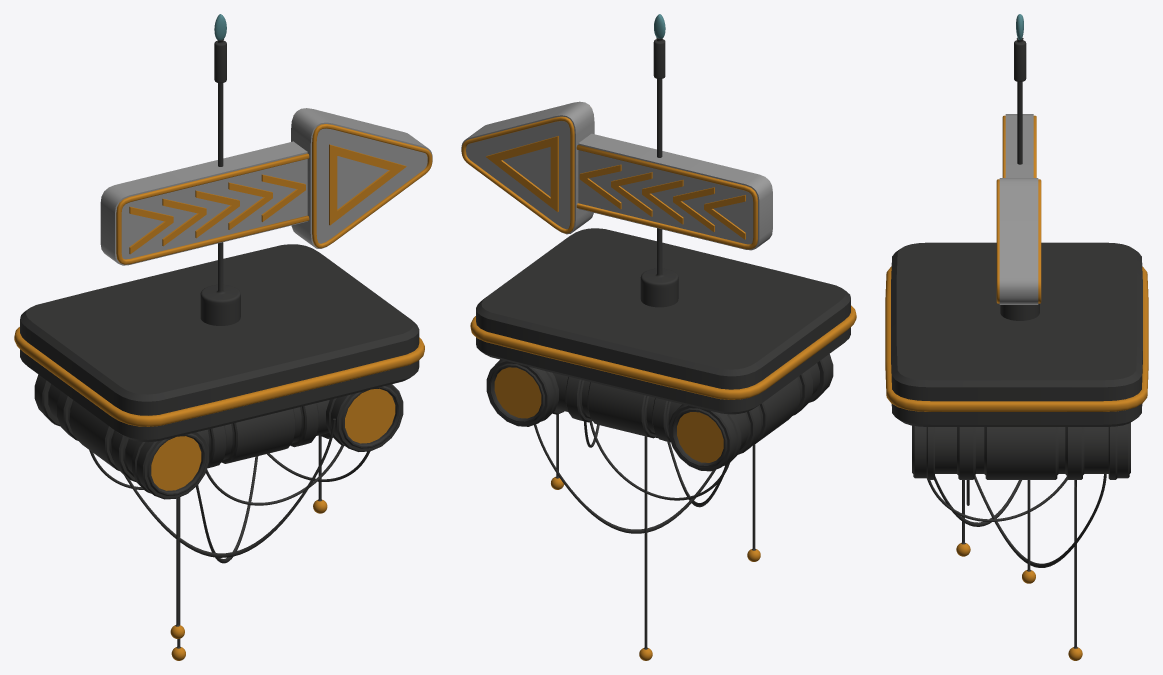
Rendered from Sign.fbx.
3 views of the same model, side by side, from view 1: azimuth 30°, elevation 25°; view 2: azimuth 150°, elevation 25°; view 3: azimuth 270°, elevation 25° (orthographic). The views are drawn at different scales.
Parts seen in each view (by area): view 1: Box319, Sign, Box320, Box321, Cylinder254, Cylinder251, Cylinder252, Cylinder253, TextPlus085, Cylinder255, Cylinder261, TextPlus084 (+5 smaller); view 2: Box319, Sign, Box320, Box321, Cylinder254, Cylinder251, Cylinder259, Cylinder260, Cylinder255, TextPlus079, Cylinder258, Cylinder263 (+6 smaller); view 3: Box319, Cylinder255, Sign, Box321, Box320, Cylinder251, Cylinder258, Cylinder262, Cylinder261, Cylinder263.
Part boxes in pixels (<box>): Box319: <box>20,244,419,442</box>; Sign: <box>14,124,432,490</box>; Box320: <box>100,141,307,265</box>; Box321: <box>291,108,432,248</box>; Cylinder254: <box>34,374,209,499</box>; Cylinder251: <box>200,39,240,325</box>; Cylinder252: <box>254,400,332,456</box>; Cylinder253: <box>199,416,268,468</box>; TextPlus085: <box>329,144,406,225</box>; Cylinder255: <box>326,384,403,451</box>; Cylinder261: <box>124,418,335,557</box>; TextPlus084: <box>129,206,173,254</box>; Box319: <box>476,228,850,414</box>; Sign: <box>461,116,856,462</box>; Box320: <box>578,133,772,250</box>; Box321: <box>461,101,594,234</box>; Cylinder254: <box>669,354,833,471</box>; Cylinder251: <box>640,37,678,307</box>; Cylinder259: <box>552,372,625,431</box>; Cylinder260: <box>613,388,681,442</box>; Cylinder255: <box>486,359,558,426</box>; TextPlus079: <box>486,136,558,211</box>; Cylinder258: <box>534,424,715,533</box>; Cylinder263: <box>644,436,647,647</box>; Box319: <box>891,242,1142,426</box>; Cylinder255: <box>912,422,1130,479</box>; Sign: <box>885,115,1148,411</box>; Box321: <box>999,178,1038,304</box>; Box320: <box>1005,114,1033,177</box>; Cylinder251: <box>1000,38,1039,320</box>; Cylinder258: <box>974,474,1106,567</box>; Cylinder262: <box>927,477,1067,521</box>; Cylinder261: <box>934,476,1021,526</box>; Cylinder263: <box>1074,487,1076,647</box>.
Size of the model in its own units: 1432 by 2540 by 929.
